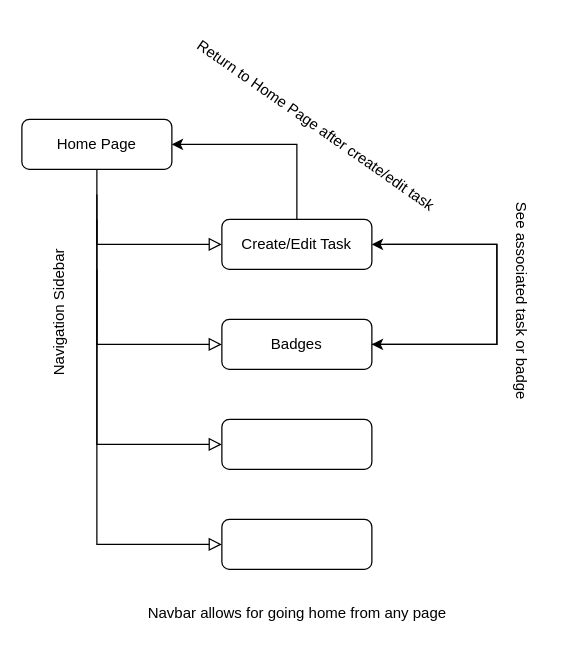
Image size: 563x654. Some labels were removed from this diagram. The shapes that lost their labels are listed below. From the top down, each one's centre as x and y in pixels, then its label:
the point at 296,443: About & Contact
the point at 296,543: Settings
